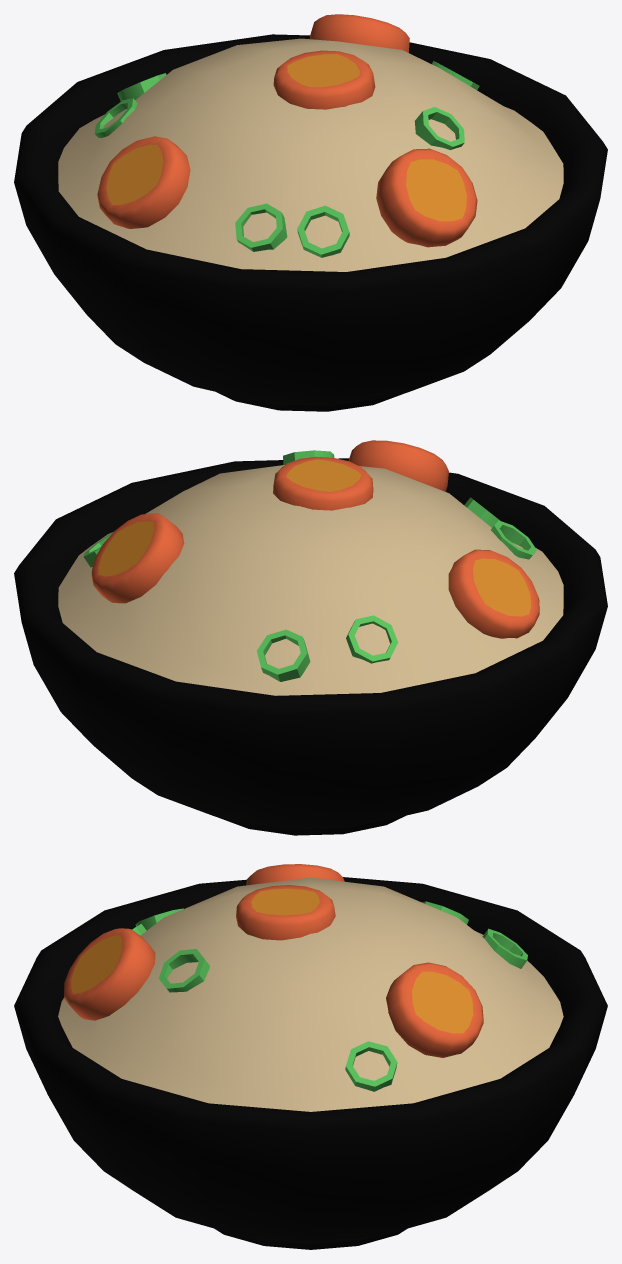
The model's file is ASFTR_Bowl_RiceCarrotOnion.fbx.
3 views of the same model, one above another, from view 1: azimuth 30°, elevation 25°; view 2: azimuth 150°, elevation 25°; view 3: azimuth 270°, elevation 25° (orthographic).
Visible parts, largest first — view 1: ASFTR_Bowl_RiceCarrotOnion; view 2: ASFTR_Bowl_RiceCarrotOnion; view 3: ASFTR_Bowl_RiceCarrotOnion.
Boxes of the visible parts, x1,y1,x2,y2 form: ASFTR_Bowl_RiceCarrotOnion: (14, 14, 607, 411); ASFTR_Bowl_RiceCarrotOnion: (14, 440, 607, 835); ASFTR_Bowl_RiceCarrotOnion: (14, 864, 607, 1249).
Bounding box in the file's own units: 60.78 × 33.6 × 60.78.
